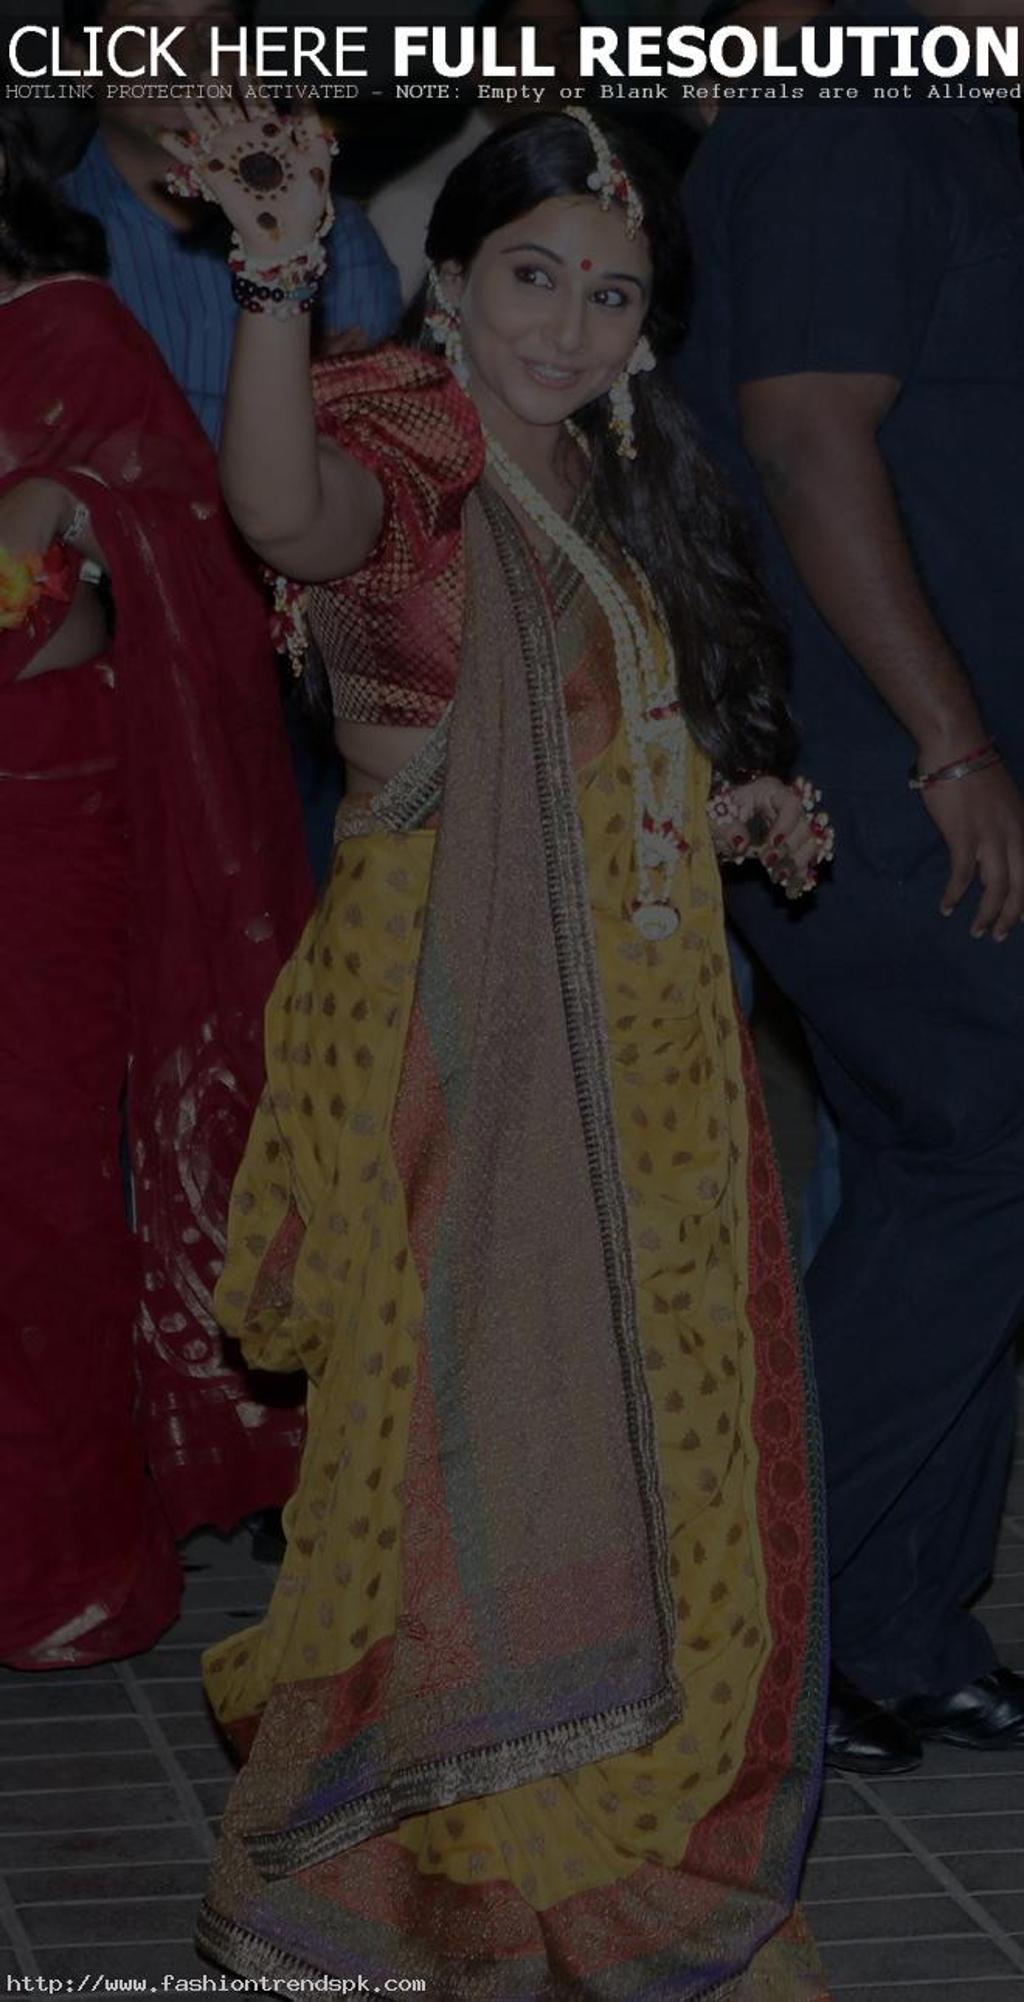face: (462, 181, 661, 423)
